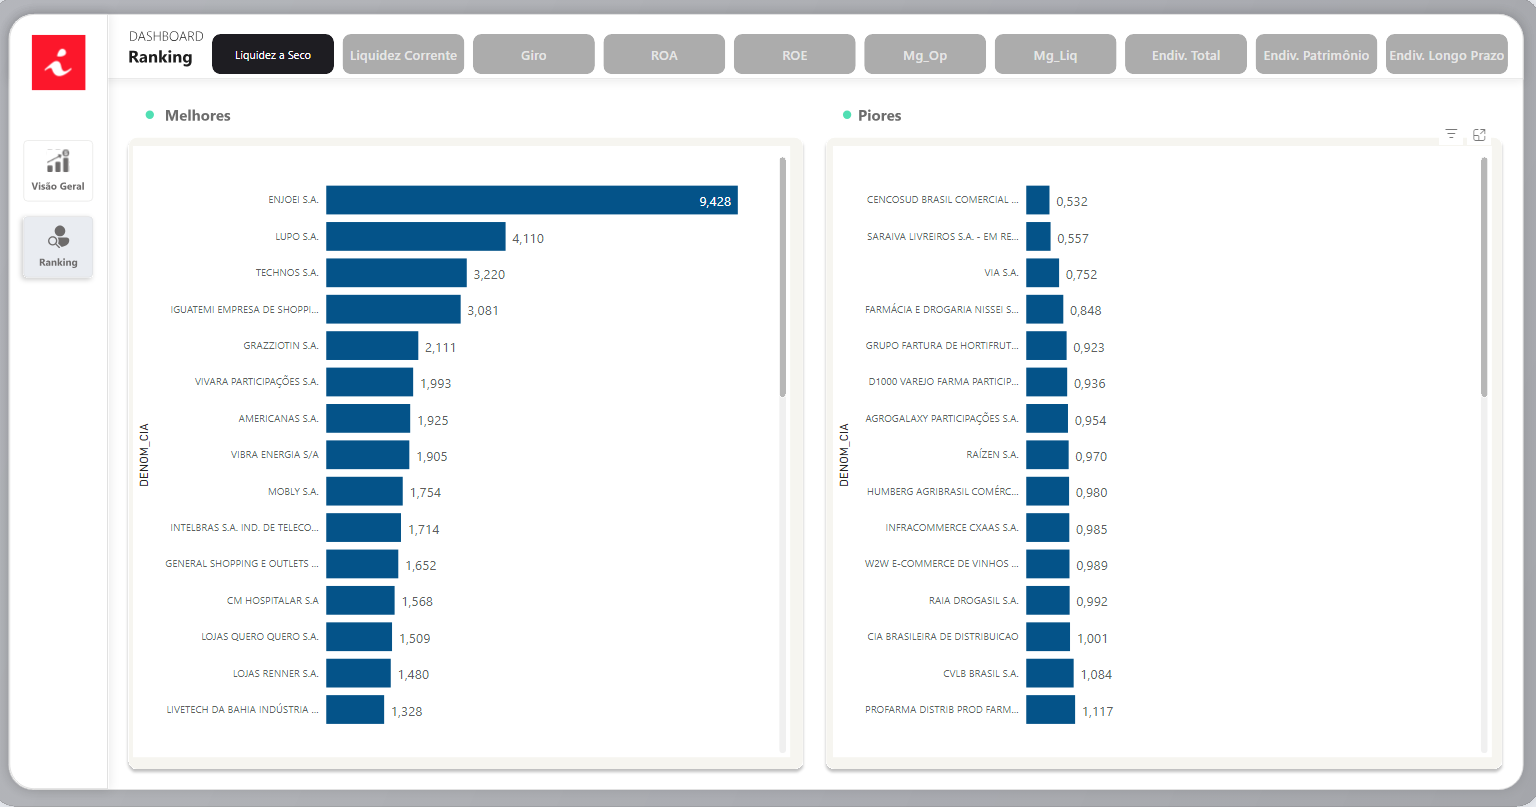

This screenshot's page, from the dashboard's own definition file:
{"tool":"powerbi","page":{"name":"Ranking","canvas":[1920,1080],"ordinal":1},"visuals":[{"type":"actionButton","box":[72.4,218.8,80.3,77.1],"z":0},{"type":"bookmarkNavigator","box":[297.5,97.6,1555.1,48.8],"z":1000},{"type":"clusteredBarChart","fields":{"Category":["Indicadores - GIC.DENOM_CIA"],"Y":["aMedidas.Liquidez a Seco"]},"box":[203.2,231.6,786.1,731],"z":2000},{"type":"clusteredBarChart","fields":{"Category":["Indicadores - GIC.DENOM_CIA"],"Y":["aMedidas.Liquidez a Seco"]},"box":[1040.5,231.6,788,731],"z":3000}]}

Visuals, with their boxes on the page's 1920x1080 design canvas (x1, y1, x2, y2). These are canvas units, not pixel positions in the 1536x807 screenshot, which may show the page scaled, cropped or inside an application window:
actionButton: [left=72, top=219, right=153, bottom=296]
bookmarkNavigator: [left=298, top=98, right=1853, bottom=146]
clusteredBarChart - Indicadores - GIC.DENOM_CIA x aMedidas.Liquidez a Seco: [left=203, top=232, right=989, bottom=963]
clusteredBarChart - Indicadores - GIC.DENOM_CIA x aMedidas.Liquidez a Seco: [left=1040, top=232, right=1828, bottom=963]
